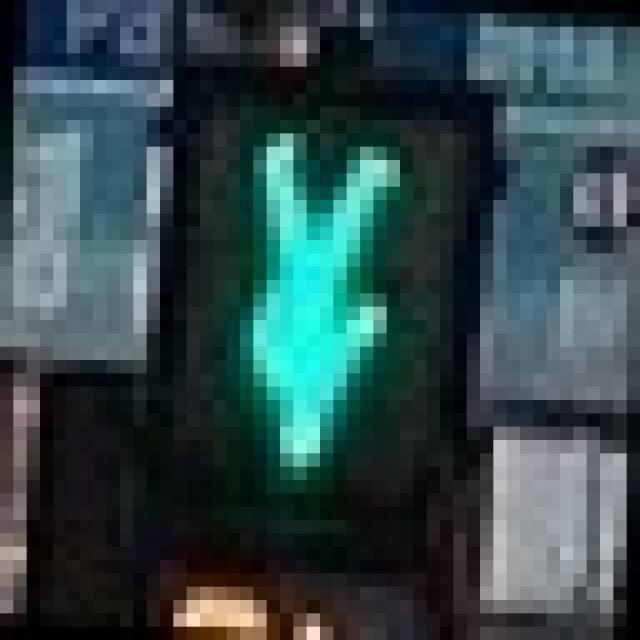green_light: (133, 67, 467, 520)
